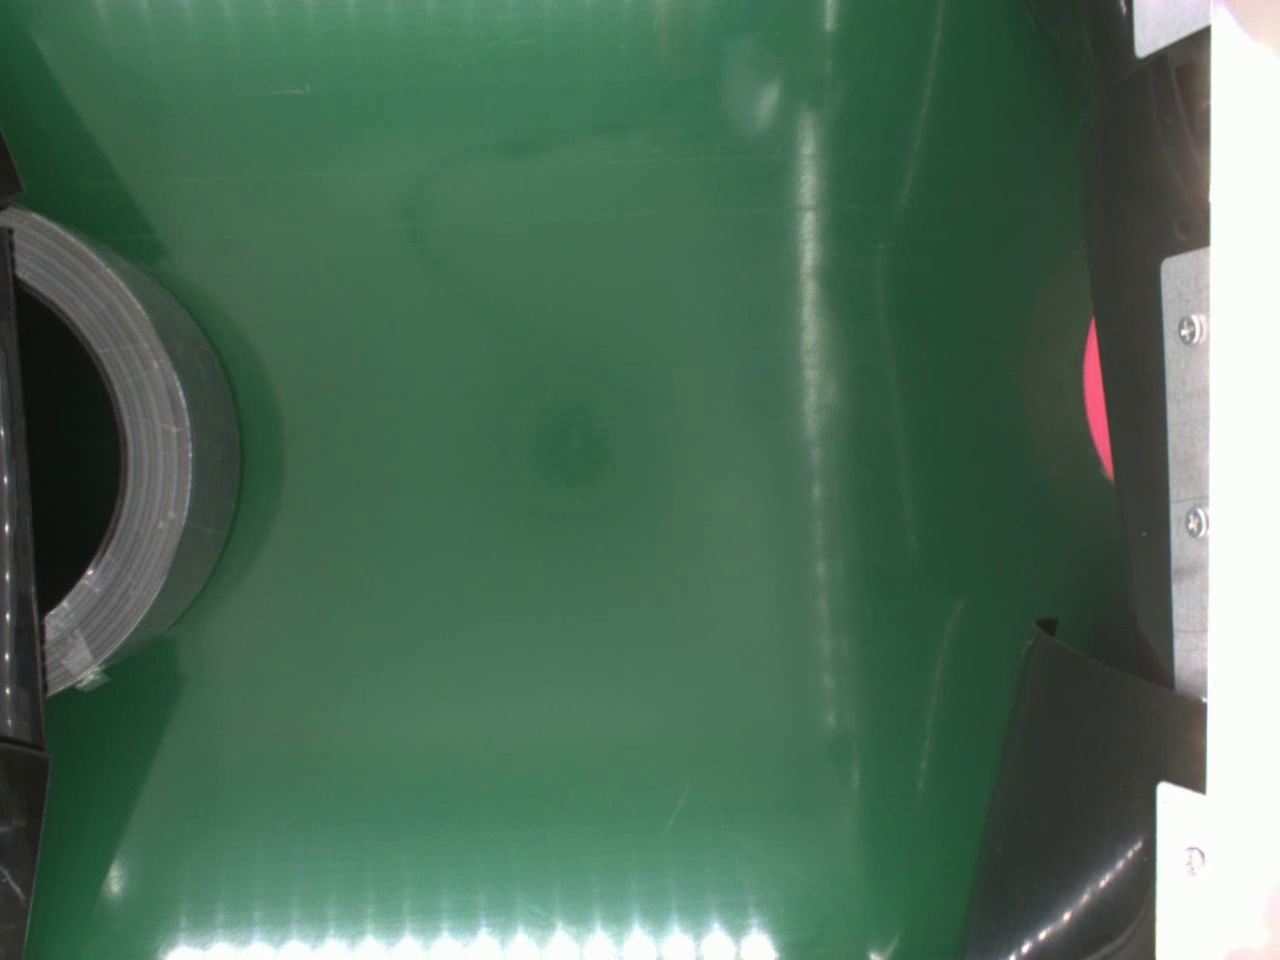black: (2, 203, 246, 701)
